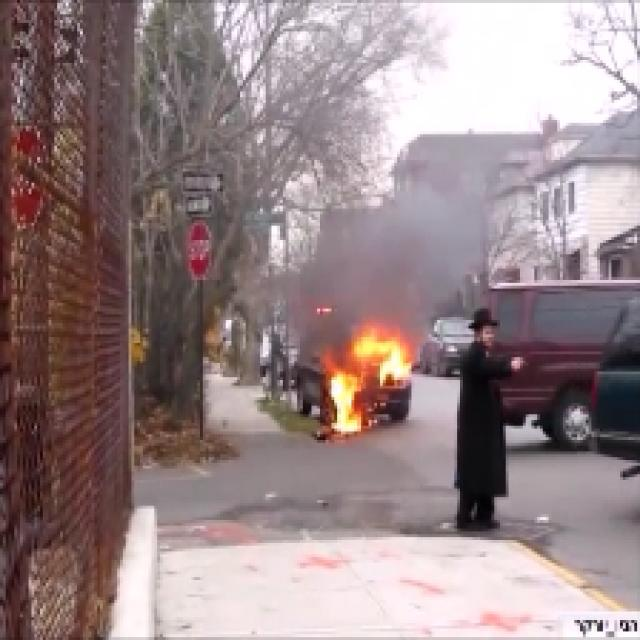fire: (324, 336, 410, 429)
smoke: (335, 206, 444, 320)
